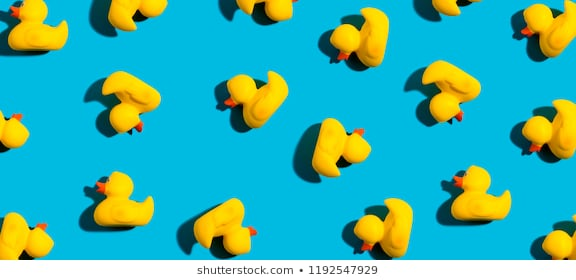duck: (88, 65, 172, 144), (207, 62, 296, 134)
